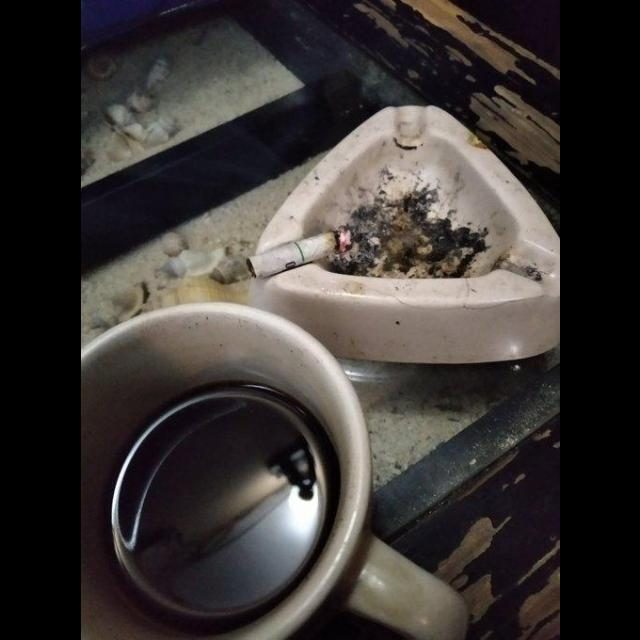rokok: (232, 226, 356, 282)
